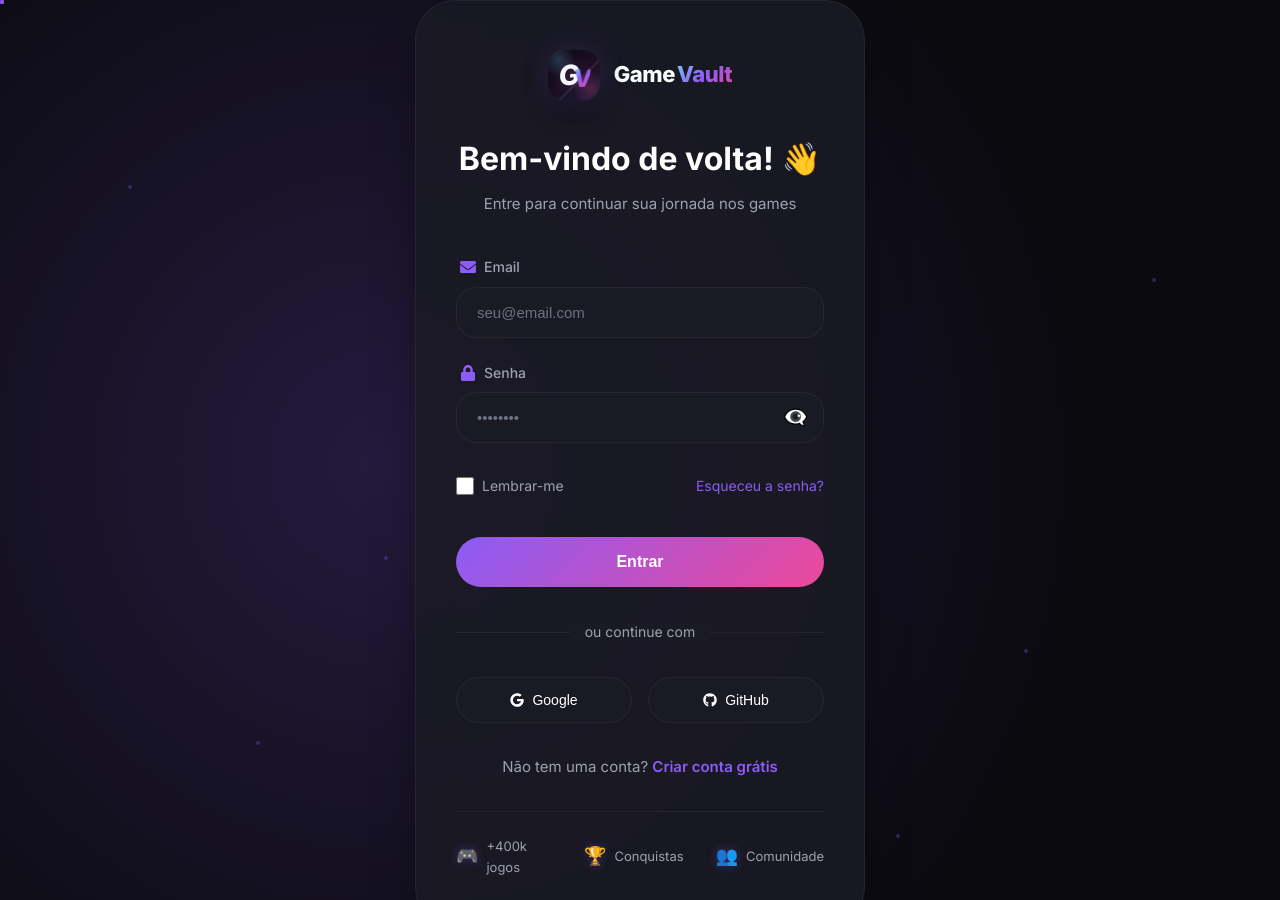
it: Login Component › deve desabilitar o botão enquanto está carregando
Type "teste@email.com" into the field labelled "Email" at (640, 312), box [456,287,824,338]
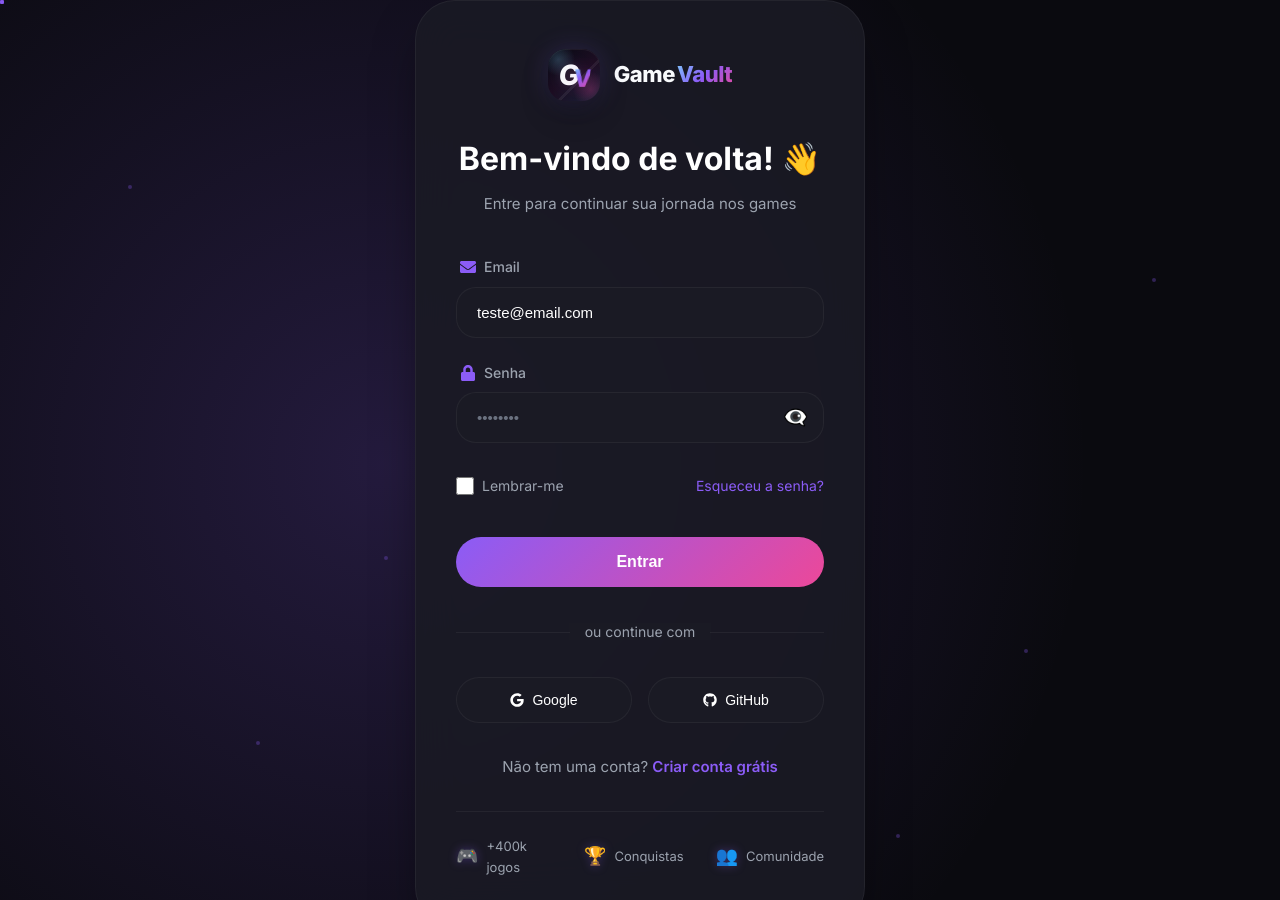
Type "123456" into the password field labelled "Senha" at (640, 418), box [456,392,824,443]
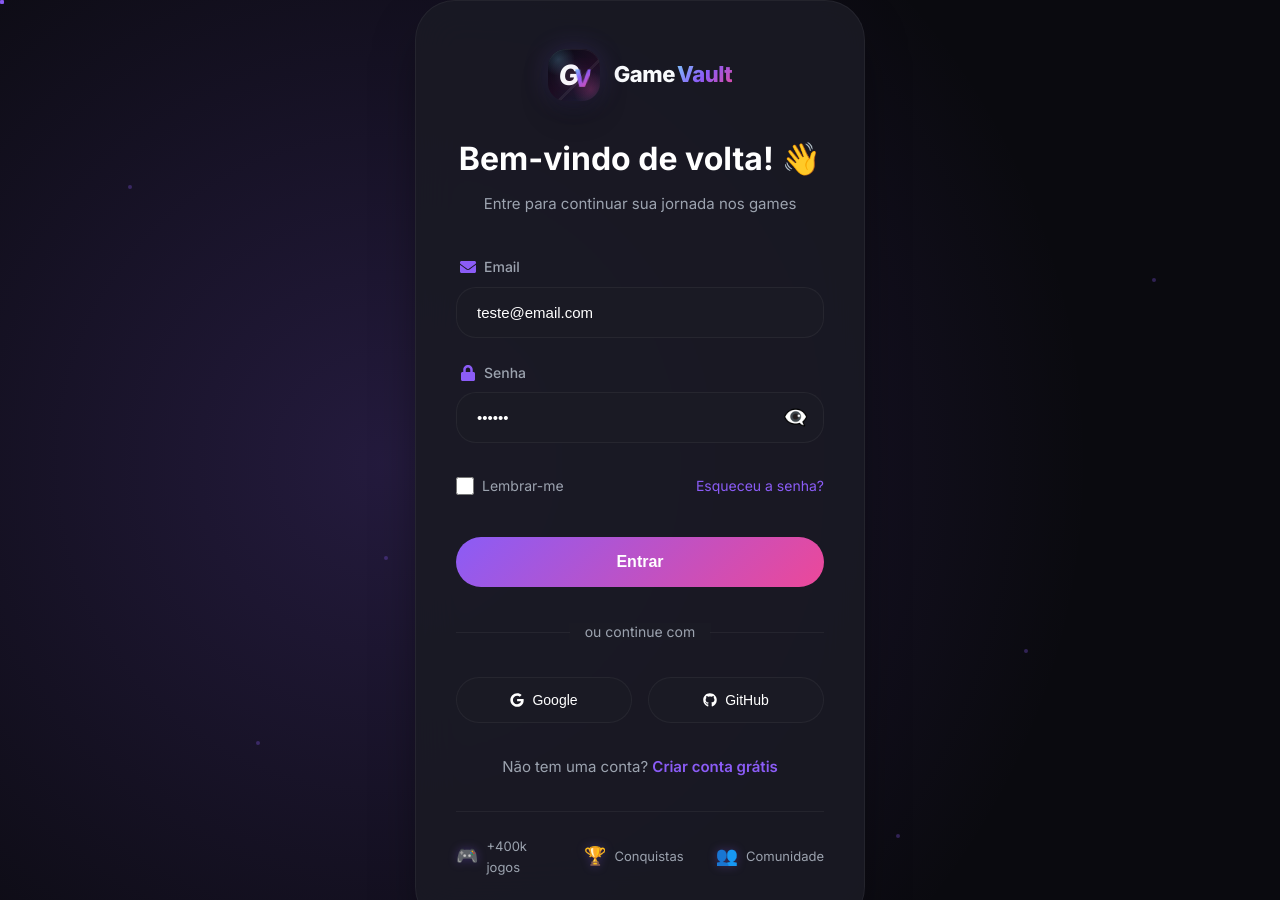
Click the button "Entrar" at (640, 562), box [456,537,824,587]
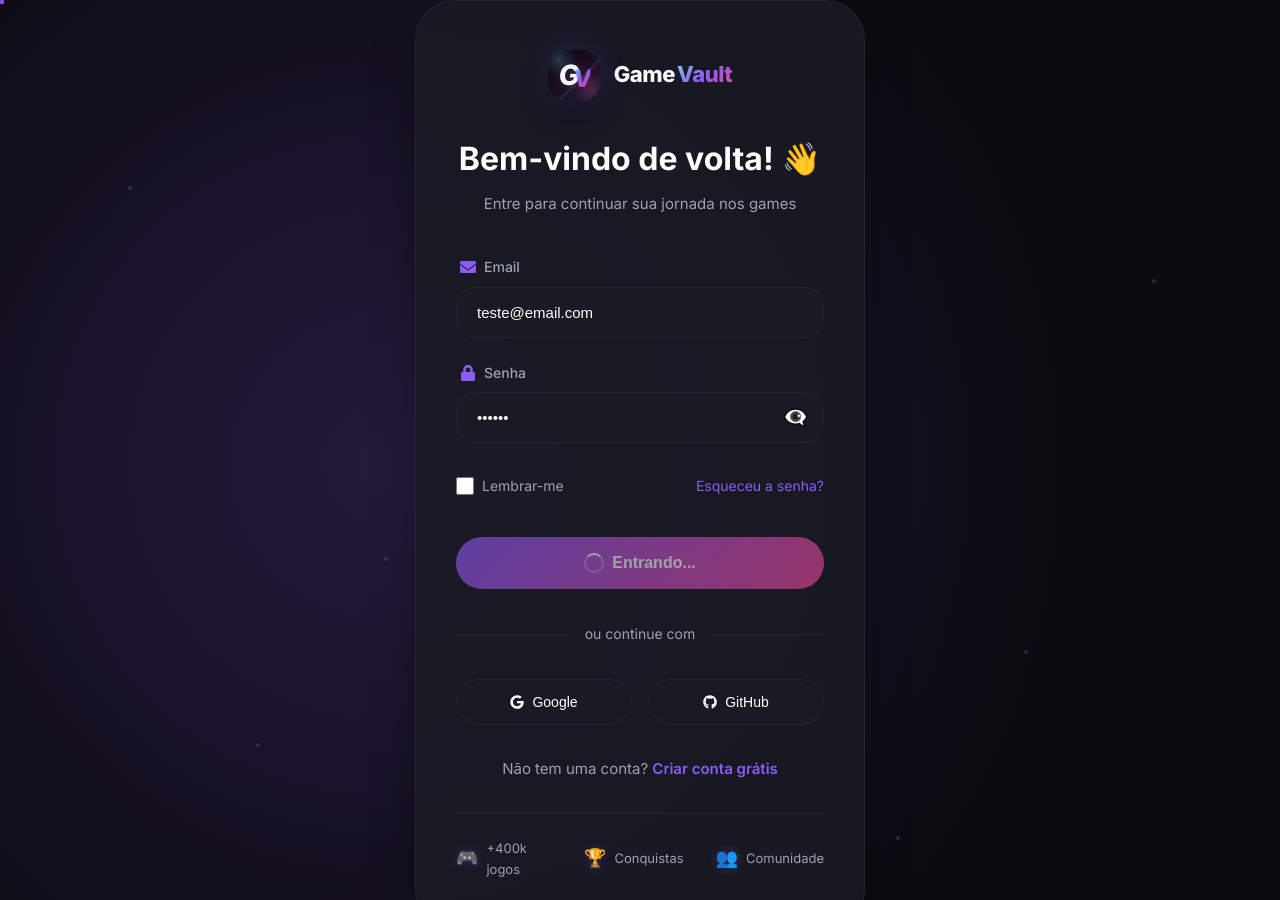
Expected: the button named "entrar" is disabled, [456,537,824,589]
